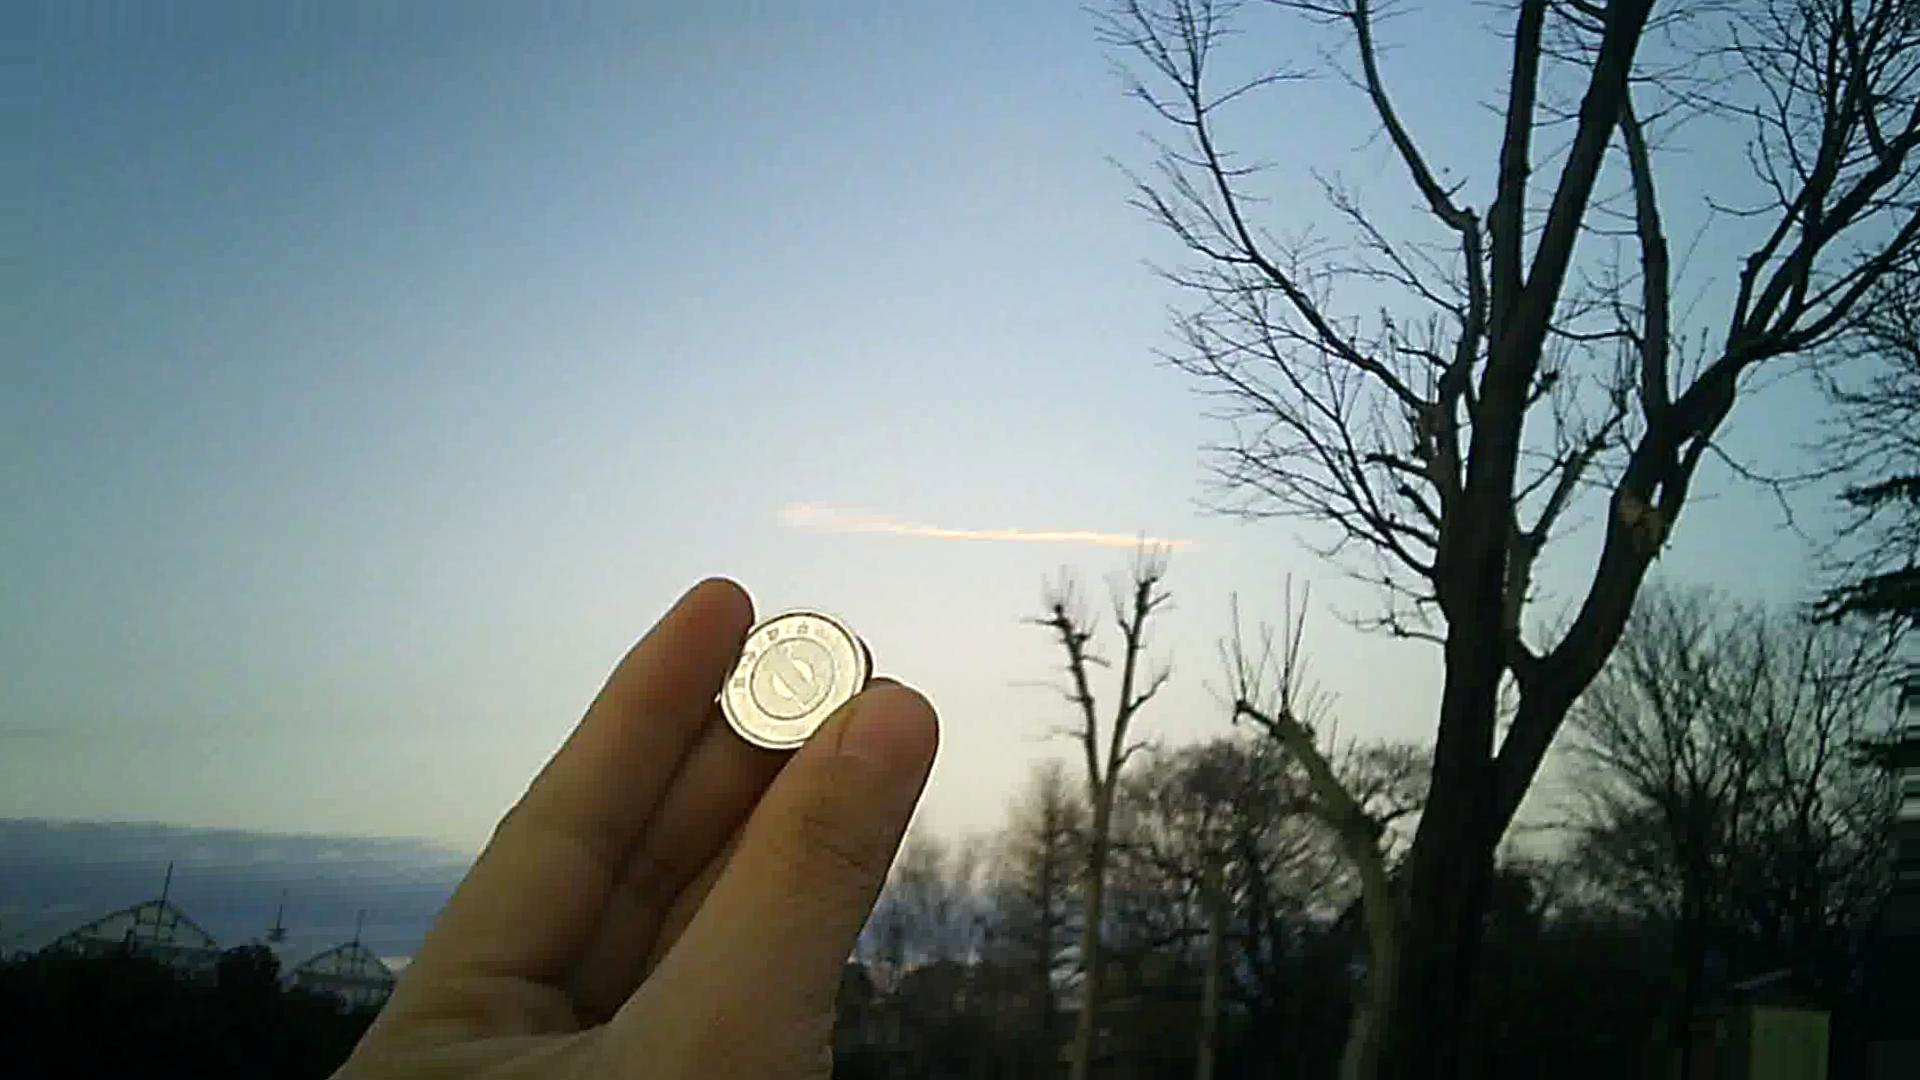1 Yen: (709, 580, 868, 757)
